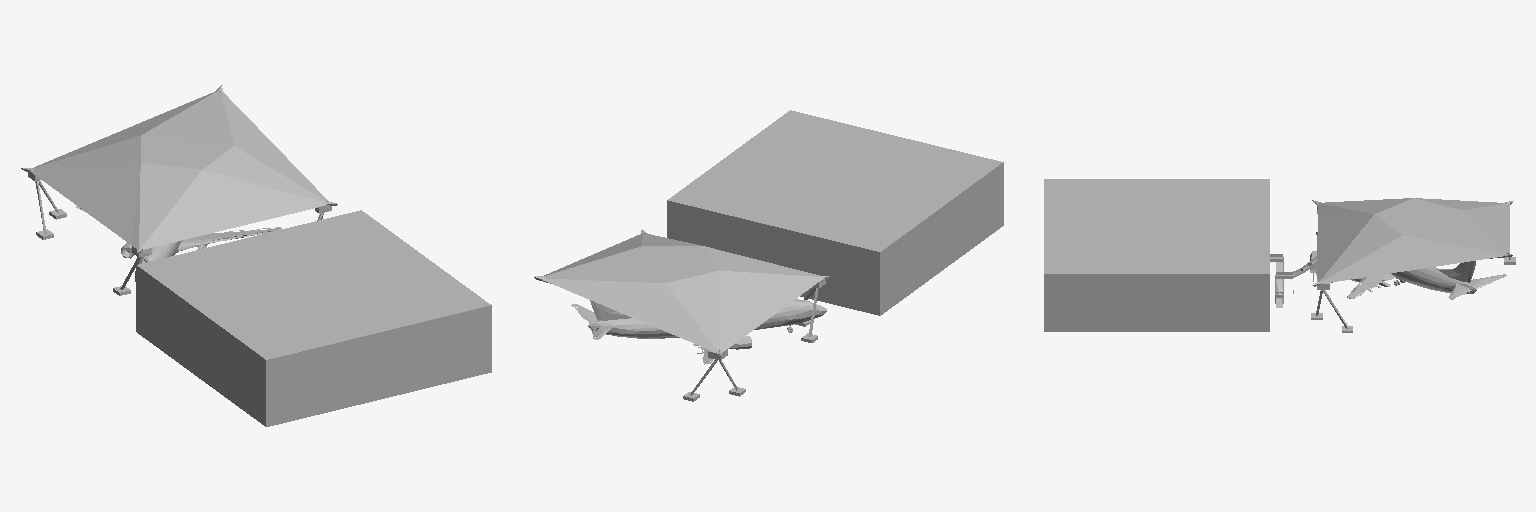
URDF robot description (hangar_model):
<?xml version="1.0" encoding="utf-8"?>
<!-- This URDF was automatically created by SolidWorks to URDF Exporter! Originally created by [author] ([email redacted]) 
     Commit Version: 1.6.0-4-g7f85cfe  Build Version: 1.6.7995.38578
     For more information, please see http://wiki.ros.org/sw_urdf_exporter -->
<robot
  name="hangar_model">
  <link
    name="base_link">
    <inertial>
      <origin
        xyz="17.481 -15.954 4.9874"
        rpy="0 0 0" />
      <mass
        value="12781000" />
      <inertia
        ixx="1379500000"
        ixy="-14559000"
        ixz="-2879200"
        iyy="1378100000"
        iyz="-3533500"
        izz="2548500000" />
    </inertial>
    <visual>
      <origin
        xyz="0 0 0"
        rpy="0 0 0" />
      <geometry>
        <mesh
          filename="package://hangar_model/meshes/untitled.dae" />
      </geometry>
      <material
        name="">
        <color
          rgba="0.75294 0.75294 0.75294 1" />
      </material>
    </visual>
    <collision>
      <origin
        xyz="0 0 0"
        rpy="0 0 0" />
      <geometry>
        <mesh
          filename="package://hangar_model/meshes/untitled.dae" />
      </geometry>
    </collision>
  </link>
</robot>

--- What the picture shows (computed from the rendered views, not written in the file) ---
Views: 3 orthographic renders of the robot side by side, from view 1: azimuth 30°, elevation 25°; view 2: azimuth 150°, elevation 25°; view 3: azimuth 270°, elevation 25°.
Model hangar_model with 1 links and 0 joints (none), rooted at base_link, posed every joint at zero.
Visible links, largest first — view 1: base_link; view 2: base_link; view 3: base_link.
Link boxes in pixels (box(x1,y1,x2,y2)): base_link: box(21, 85, 491, 426); base_link: box(534, 110, 1003, 401); base_link: box(1044, 179, 1515, 332).
Size in the robot's own frame: 35.53 by 73.25 by 13.29 metres.
1 mesh visuals loaded from 1 distinct referenced files (1 Collada DAE).
